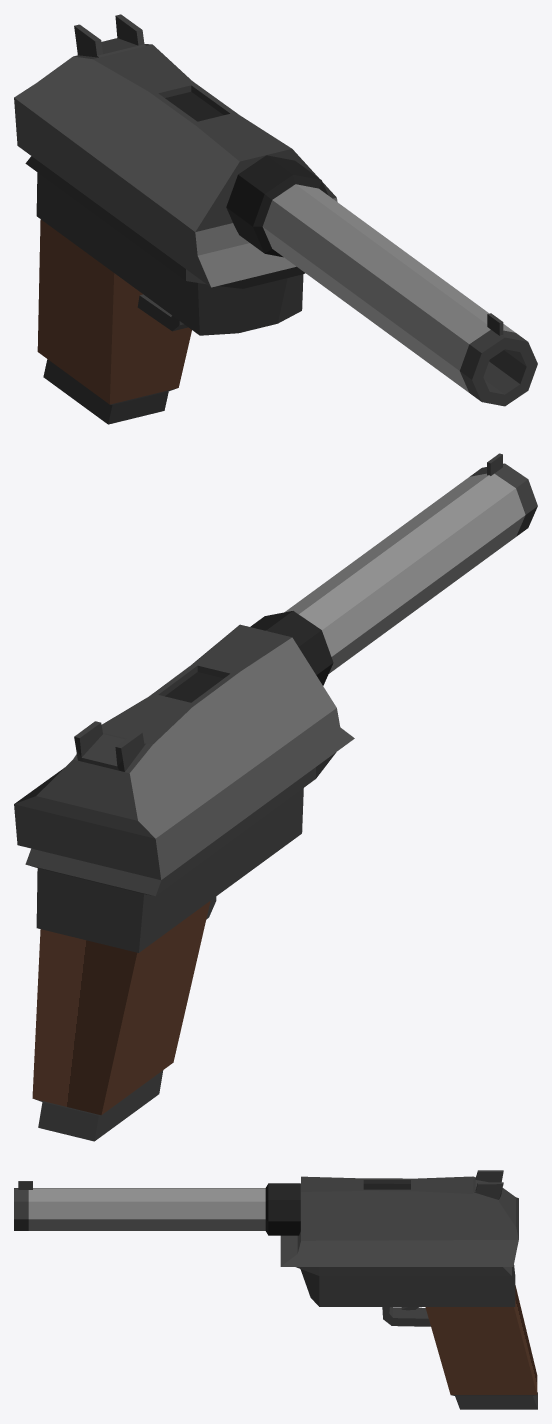
Rendered from PISTOL.fbx.
3 renders of one model, top to bottom at view 1: azimuth 30°, elevation 25°; view 2: azimuth 150°, elevation 25°; view 3: azimuth 270°, elevation 25°, orthographic. The views are drawn at different scales.
Visible parts, largest first — view 1: Gun.001; view 2: Gun.001; view 3: Gun.001.
Part boxes in pixels (box(x1,y1,x2,y2)): Gun.001: box(14, 14, 537, 424); Gun.001: box(14, 453, 537, 1141); Gun.001: box(14, 1170, 537, 1409).
Size of the model in its own units: 7.64 by 40.15 by 18.89.
Materials: 1 (1 with a texture image).
